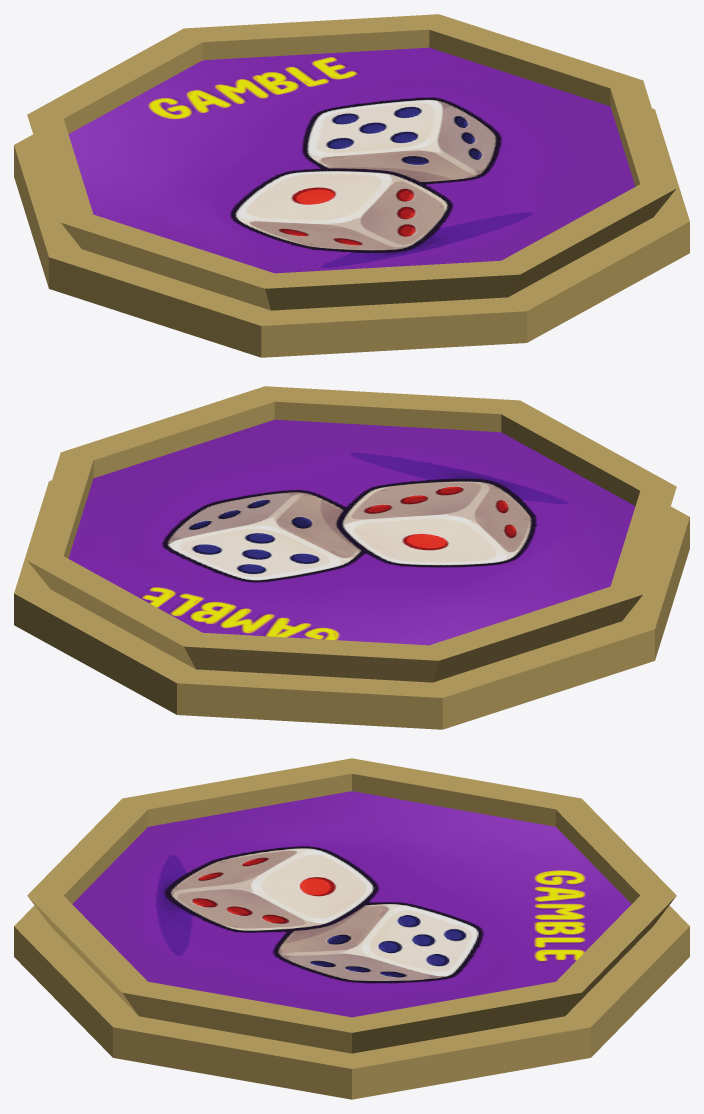
File: tile4 cdparty.fbx
The picture shows the model from 3 angles, top to bottom: view 1: azimuth 30°, elevation 25°; view 2: azimuth 150°, elevation 25°; view 3: azimuth 270°, elevation 25°; orthographic projection. The views are drawn at different scales.
Visible parts, largest first — view 1: pCylinder7; view 2: pCylinder7; view 3: pCylinder7.
Part boxes in pixels (x1,y1,x2,y2): pCylinder7: (14, 14, 689, 357); pCylinder7: (14, 386, 689, 729); pCylinder7: (14, 758, 689, 1099).
Bounding box in the file's own units: 2 × 0.2 × 2.
2 materials, 1 textured.
